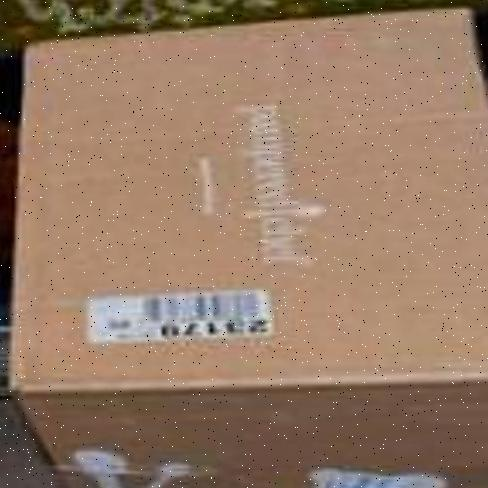Other: (8, 10, 488, 488)
